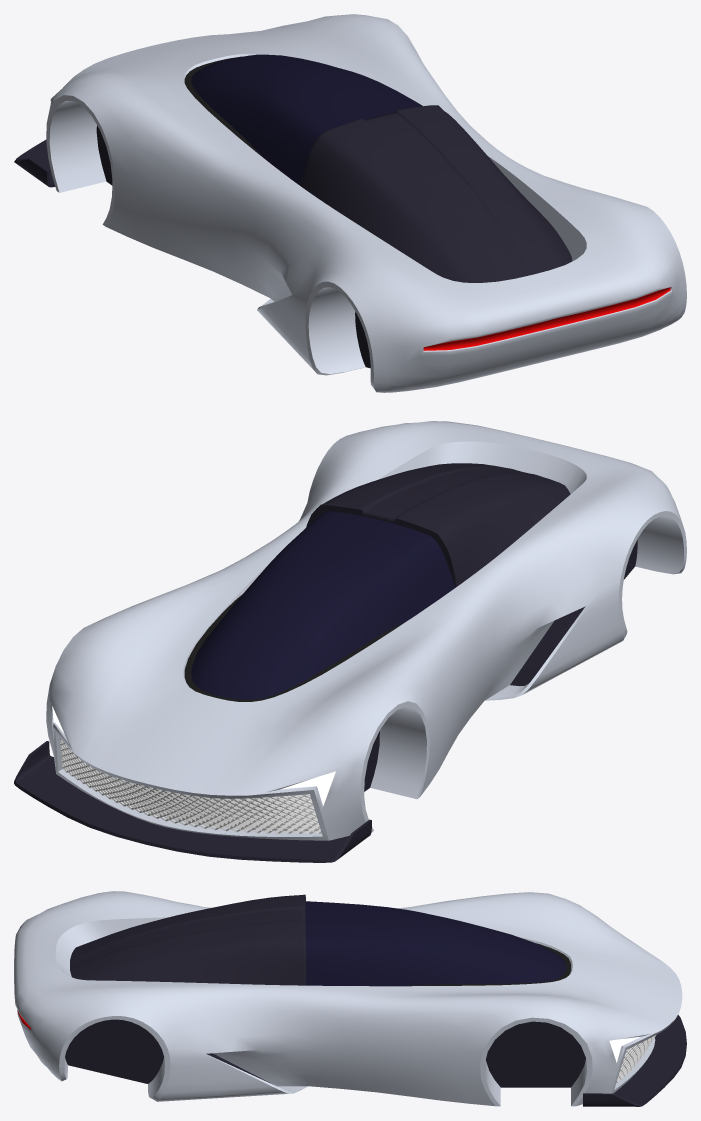
Rendered from Car.glb.
3 renders of one model, top to bottom at view 1: azimuth 30°, elevation 25°; view 2: azimuth 150°, elevation 25°; view 3: azimuth 270°, elevation 25°, orthographic. The views are drawn at different scales.
Visible parts, largest first — view 1: Car; view 2: Car; view 3: Car.
Boxes of the visible parts, left/top/right/bottom form: Car: left=14, top=14, right=686, bottom=392; Car: left=14, top=421, right=686, bottom=862; Car: left=14, top=891, right=686, bottom=1106.
Size of the model in its own units: 2.02 by 0.9461 by 4.43.
